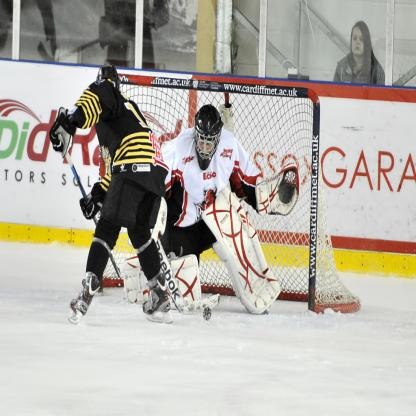Helmet: (192, 104, 221, 158), (96, 62, 119, 86)
